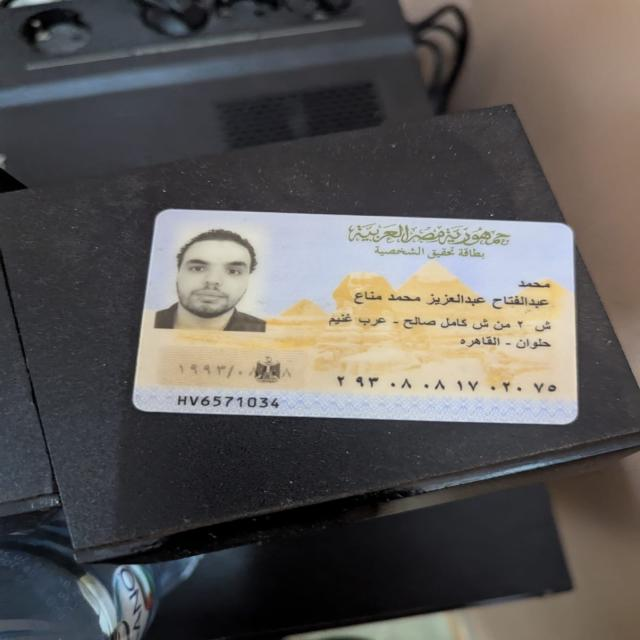ID-cards: (123, 199, 591, 438)
